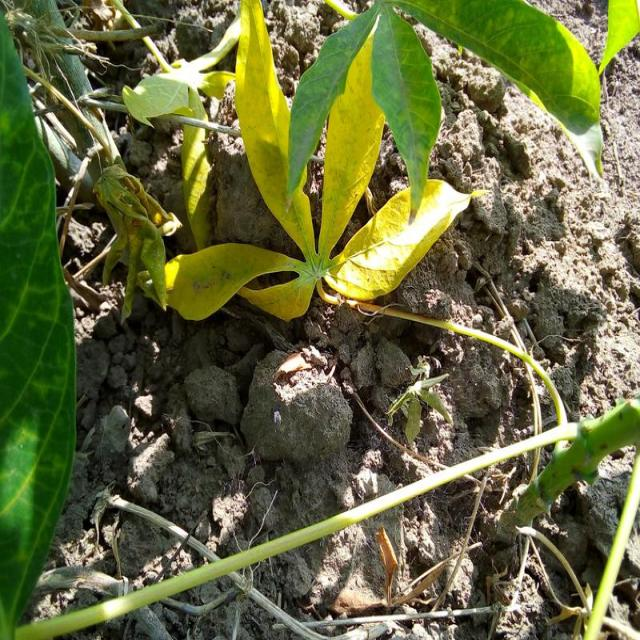cassava leaf: (0, 9, 78, 638), (389, 0, 604, 181)
